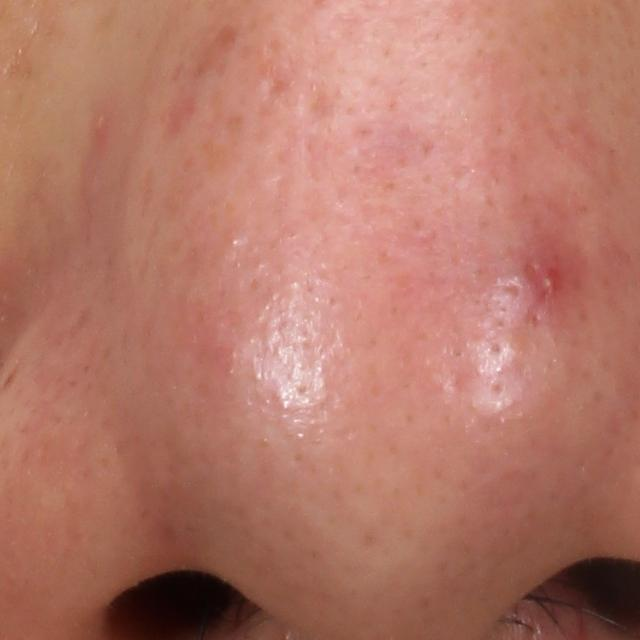atrophic_scar: (299, 82, 342, 123)
